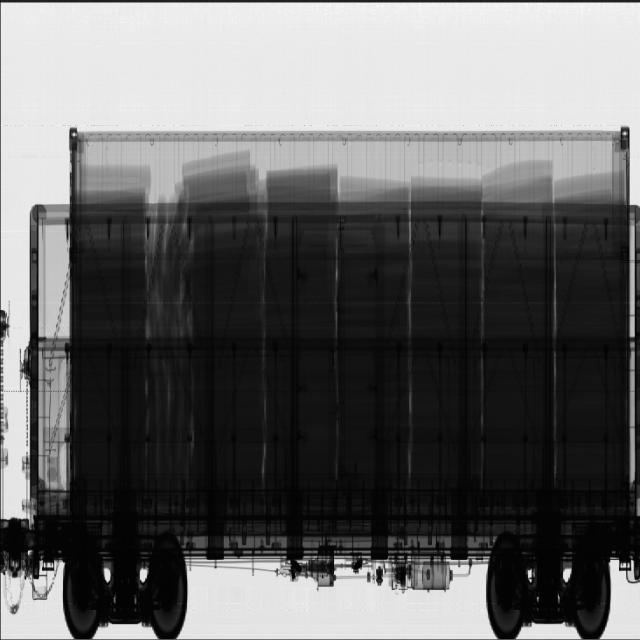fabrics: (78, 148, 623, 492)
